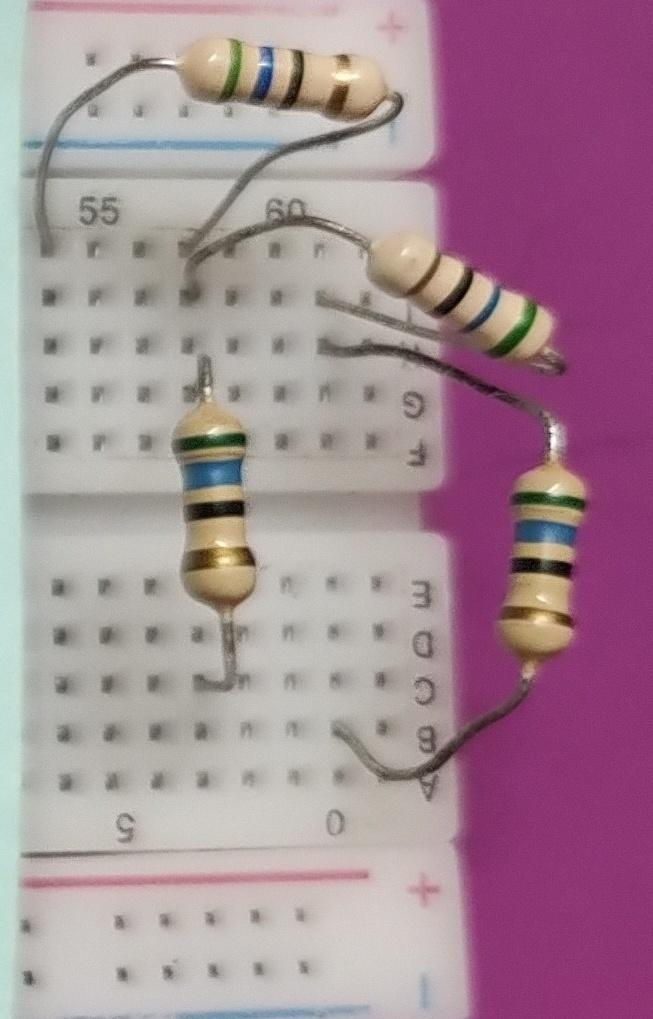resistor: (351, 215, 581, 375), (171, 28, 409, 137), (163, 379, 260, 627), (499, 447, 586, 691)
